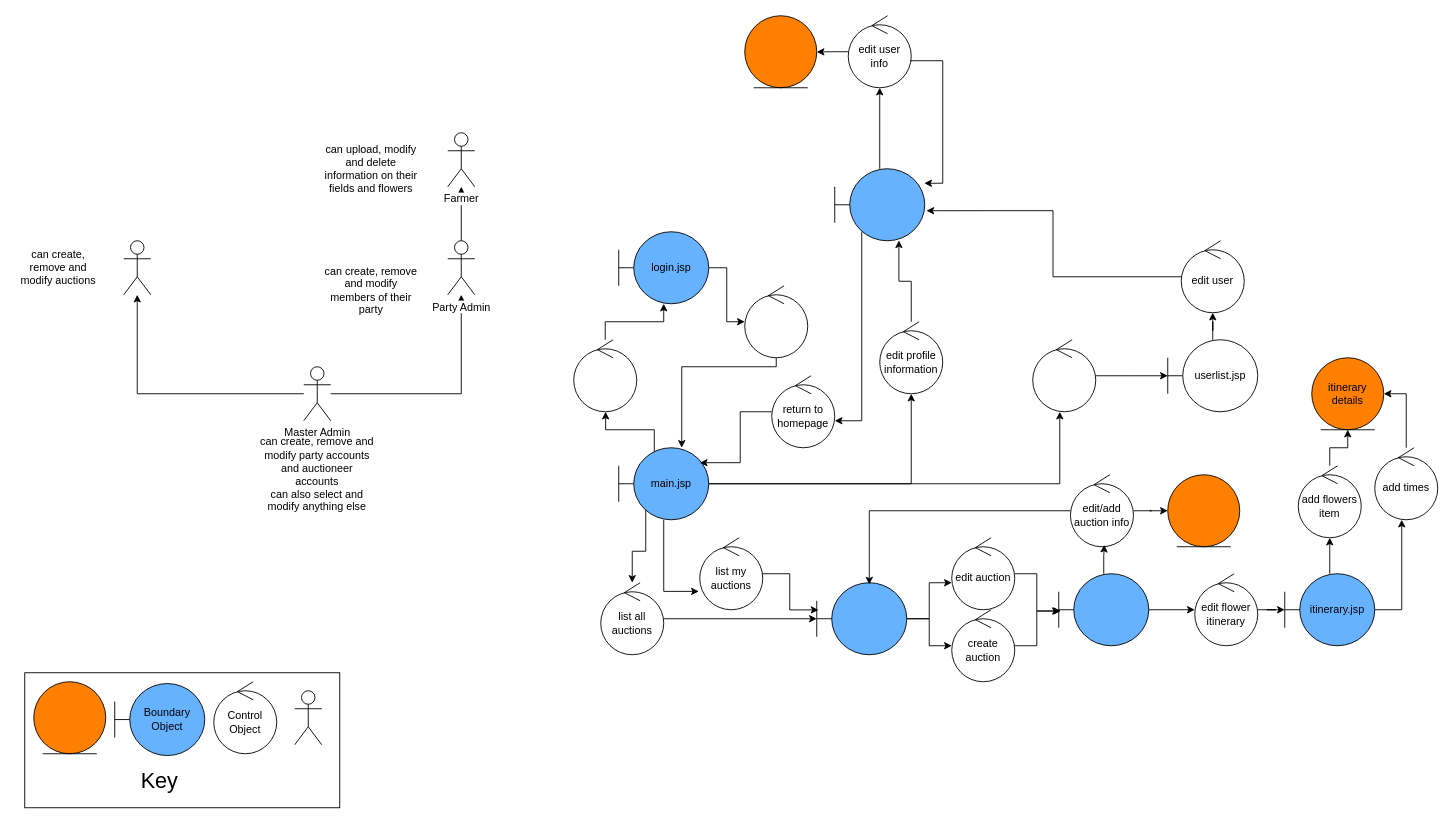
Image size: 1454x824. Some labels were removed from this diagram. The box of each missing label's shape, as (x1, y1, x2, y2) in pixels:
Actor: (294, 690, 322, 745)
auction details: (1167, 474, 1240, 547)
Auctioneer: (123, 240, 151, 295)
auctionlist.jsp: (816, 582, 907, 655)
authenticate user and set role: (744, 285, 808, 358)
edit users: (1032, 339, 1096, 412)
editauction.jsp: (1058, 573, 1149, 646)
Entity Object: (33, 681, 106, 754)
logout: (573, 339, 637, 412)
user details: (744, 15, 817, 88)
userinfo.jsp: (834, 168, 925, 241)
